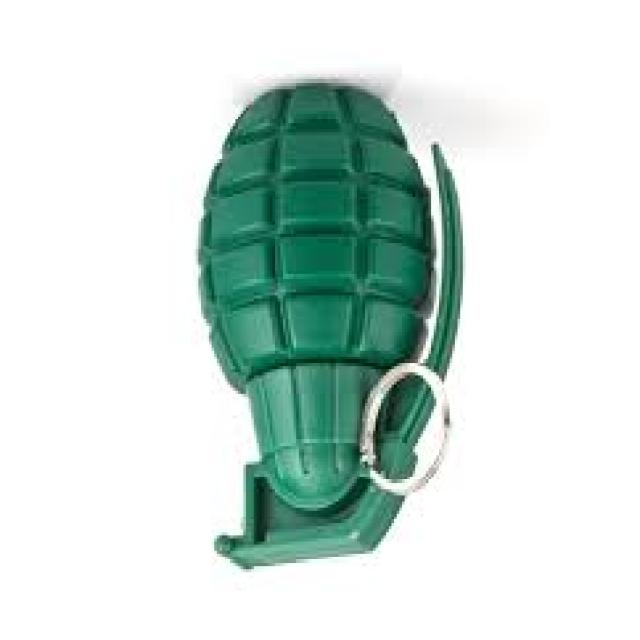grenade: (189, 79, 480, 583)
